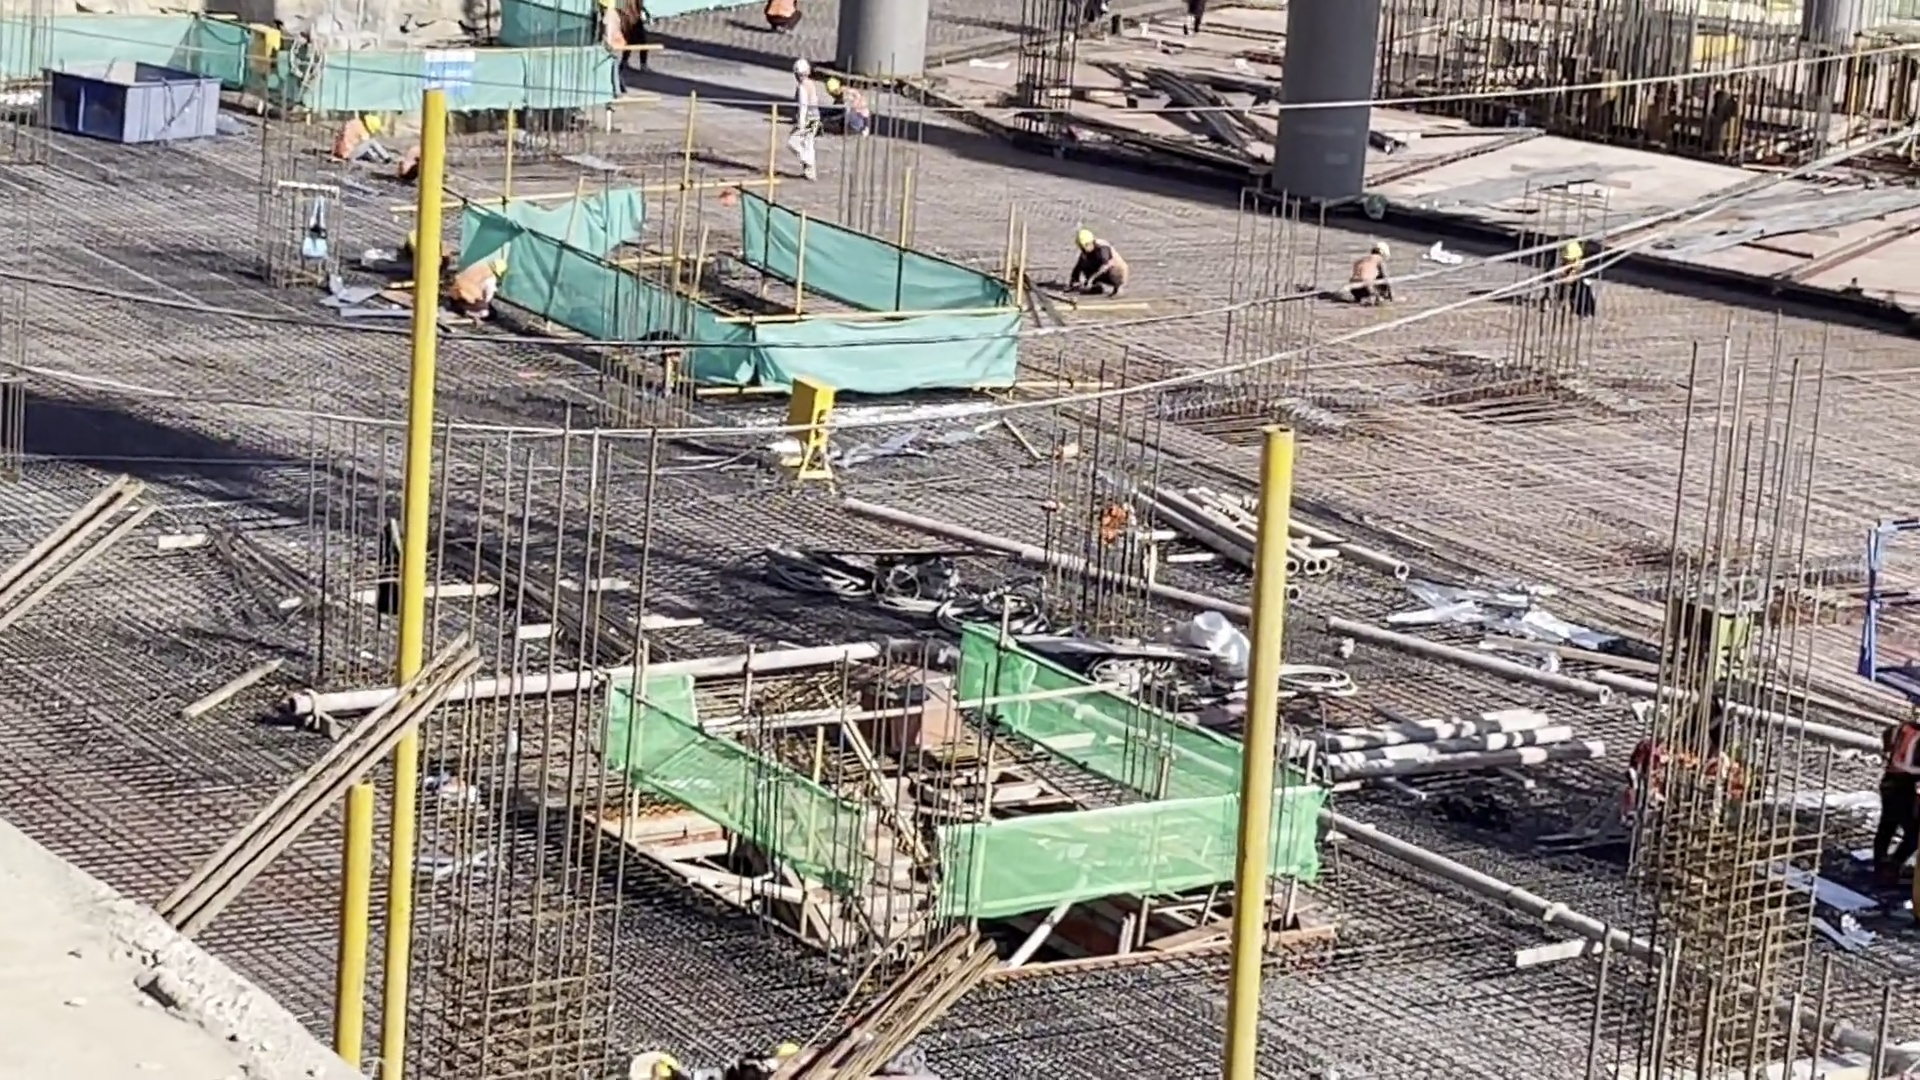ebox: (785, 381, 835, 464), (243, 26, 273, 80)
helmet: (1563, 240, 1582, 261), (490, 258, 508, 279), (363, 116, 381, 135), (1076, 230, 1094, 245), (794, 59, 811, 73), (826, 79, 840, 93)
hopper: (43, 61, 219, 145)
person: (1879, 695, 1920, 878), (1073, 230, 1128, 301), (611, 1, 661, 77), (786, 58, 815, 183), (454, 257, 511, 314), (1352, 243, 1390, 314), (338, 114, 385, 162), (827, 80, 869, 135), (762, 3, 805, 37)
slogan: (424, 51, 473, 93)
vest: (1885, 724, 1920, 777), (459, 264, 492, 310), (1354, 254, 1385, 291), (343, 119, 359, 158), (768, 1, 796, 20)
